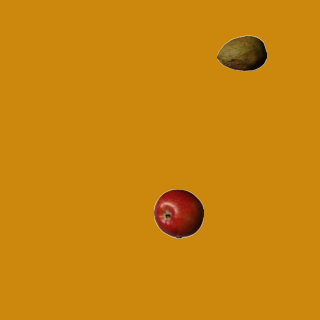Apple Braeburn: (153, 188, 203, 238)
Papaya: (216, 28, 266, 78)
